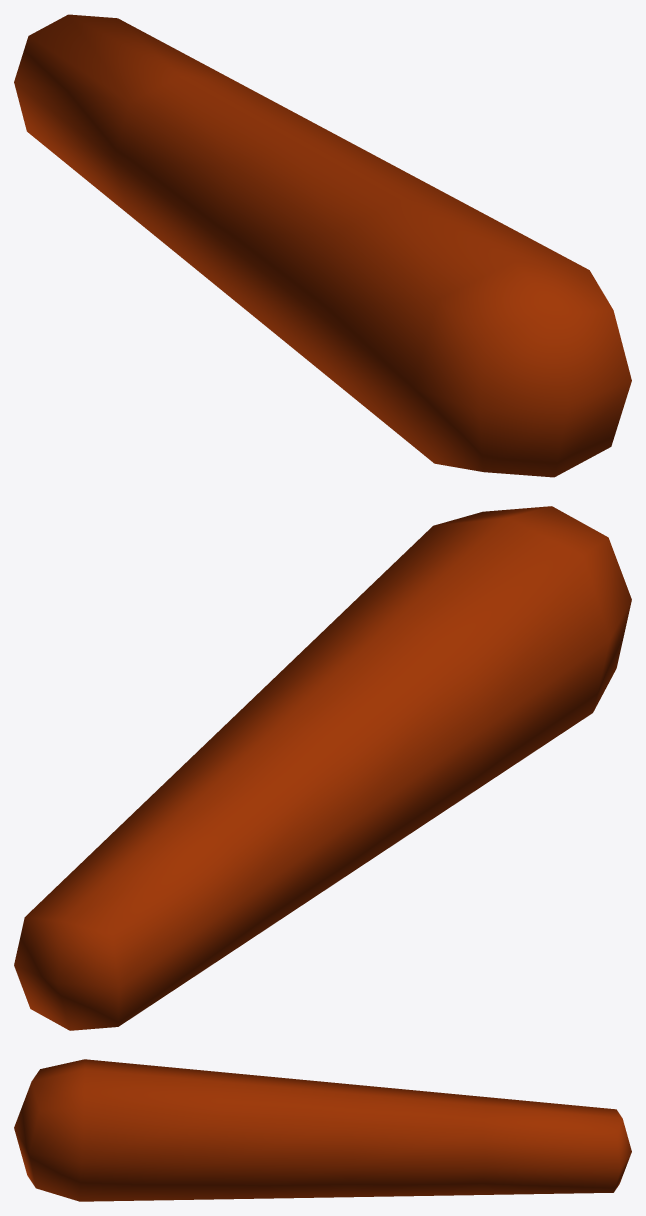
File: LowerArmLeft.dae
3 views of the same model, one above another, from view 1: azimuth 30°, elevation 25°; view 2: azimuth 150°, elevation 25°; view 3: azimuth 270°, elevation 25° (orthographic). The views are drawn at different scales.
Visible parts, largest first — view 1: LowerArm_L; view 2: LowerArm_L; view 3: LowerArm_L.
Part boxes in pixels (x1,y1,x2,y2): LowerArm_L: (14,14,631,477); LowerArm_L: (14,506,631,1030); LowerArm_L: (14,1059,631,1201).
Bounding box in the file's own units: 0.0617 × 0.2791 × 0.0616.
